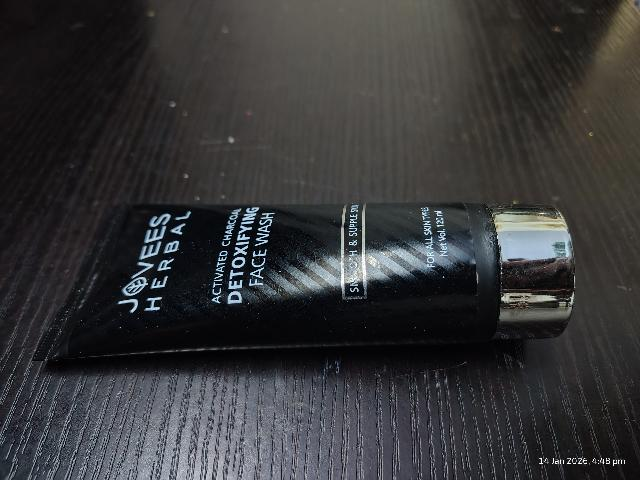jovees herbal: (53, 199, 583, 365)
